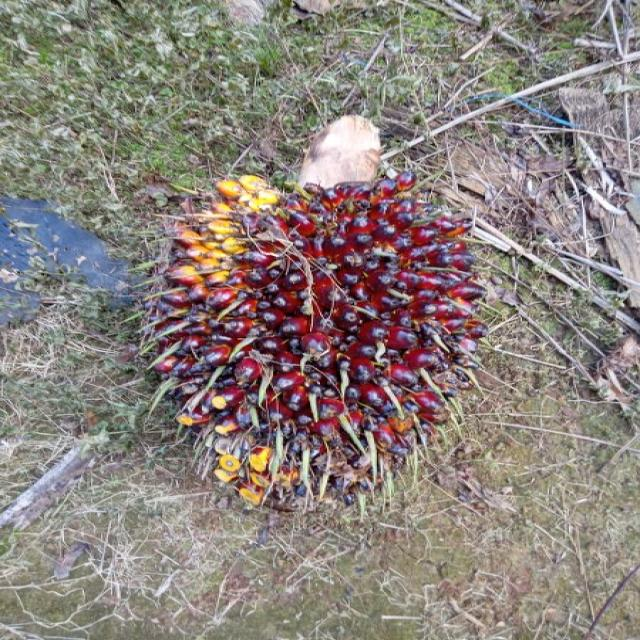fraksi 1: (110, 88, 522, 560)
